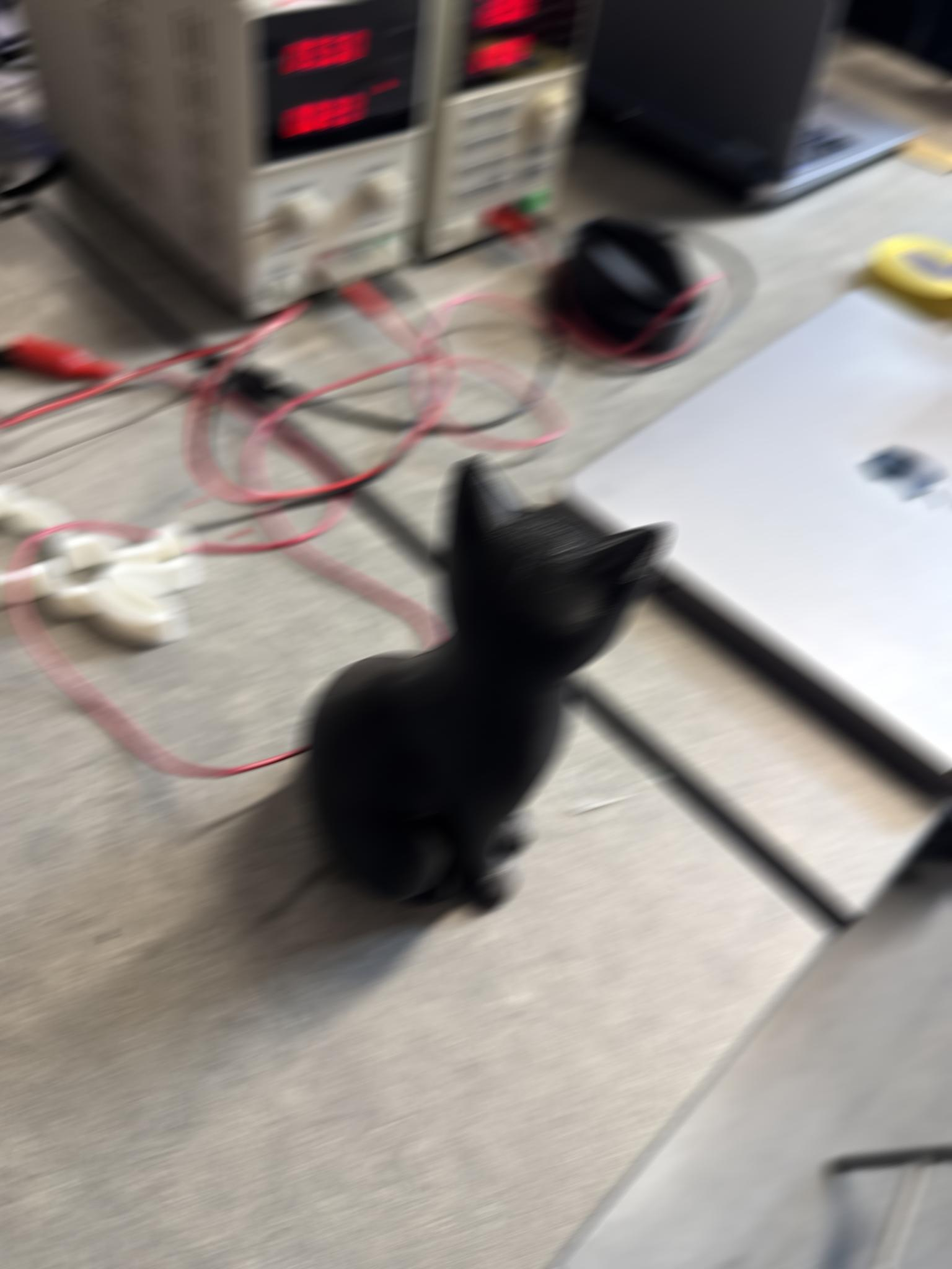cat: (298, 459, 668, 925)
